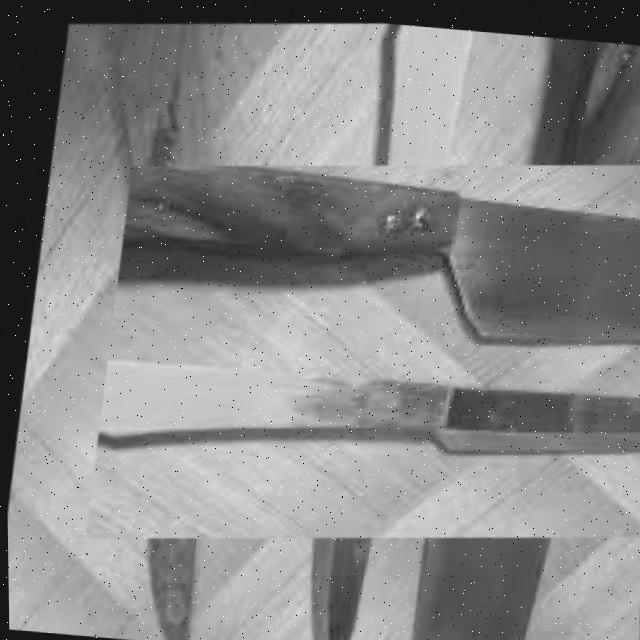knife: (116, 151, 640, 351), (93, 352, 640, 487)
